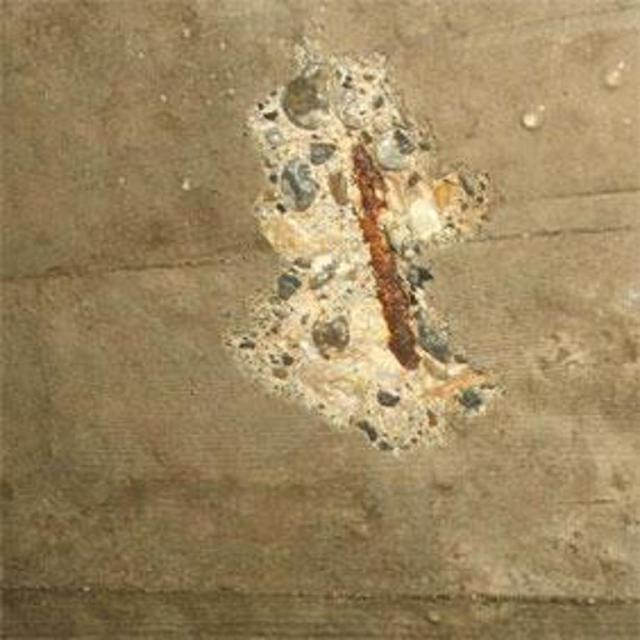spalling: (220, 38, 514, 459)
